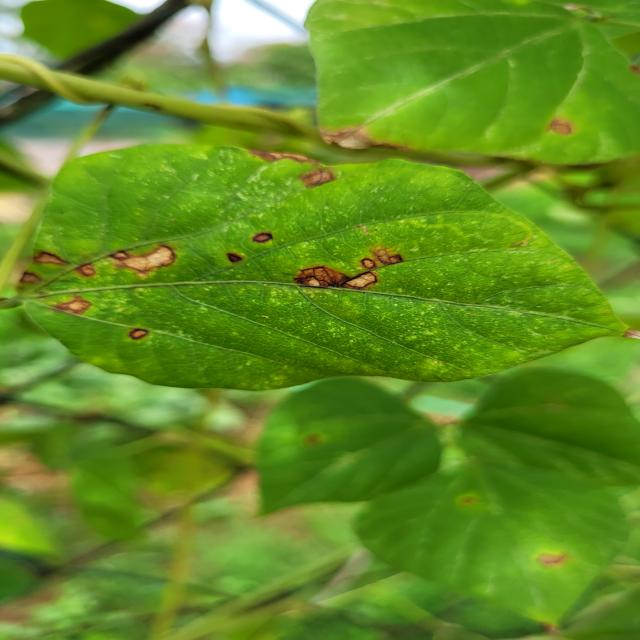Dolicos bean_cercospora leaf spot: (12, 138, 640, 394), (294, 0, 640, 167), (339, 467, 640, 640), (249, 367, 461, 507)
Dolicos bean_healthy: (424, 342, 640, 516)
